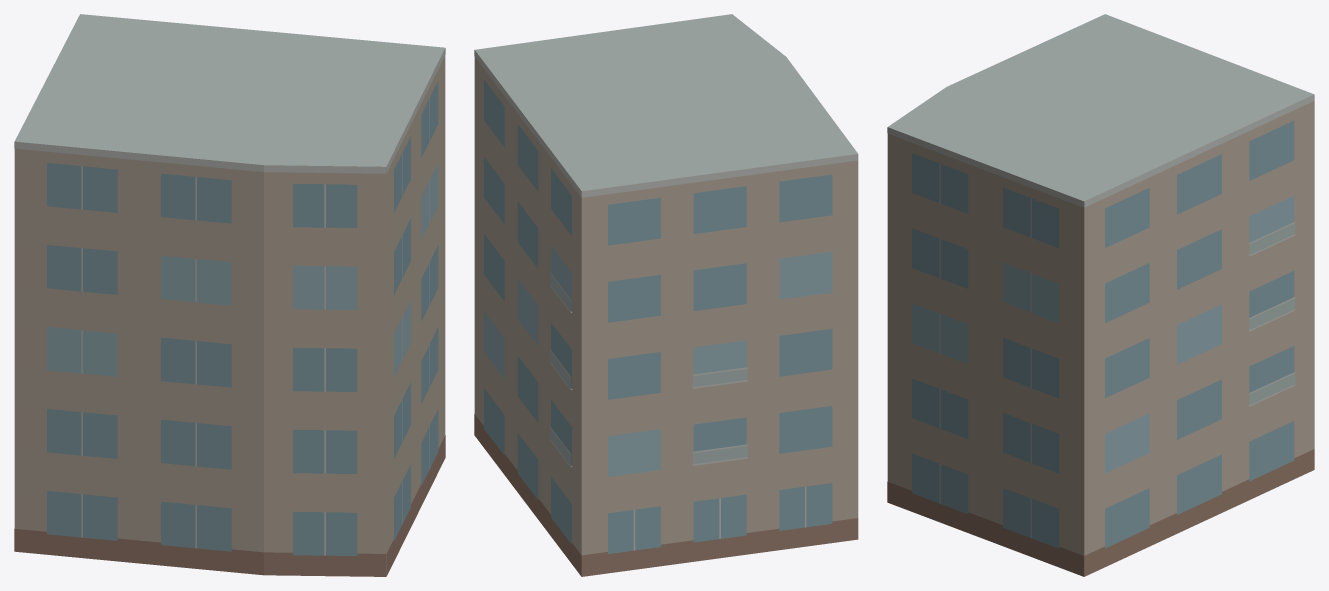
File: survey-upis-32712342.glb
3 views of the same model, side by side, from view 1: azimuth 30°, elevation 25°; view 2: azimuth 150°, elevation 25°; view 3: azimuth 270°, elevation 25° (orthographic). The views are drawn at different scales.
Visible parts, largest first — view 1: survey-upis-32712342.tmp; view 2: survey-upis-32712342.tmp; view 3: survey-upis-32712342.tmp.
Boxes of the visible parts, x1,y1,x2,y2 form: survey-upis-32712342.tmp: (14,14,445,576); survey-upis-32712342.tmp: (474,14,858,576); survey-upis-32712342.tmp: (887,14,1314,576).
Size of the model in its own units: 15.43 by 14.4 by 14.85.
